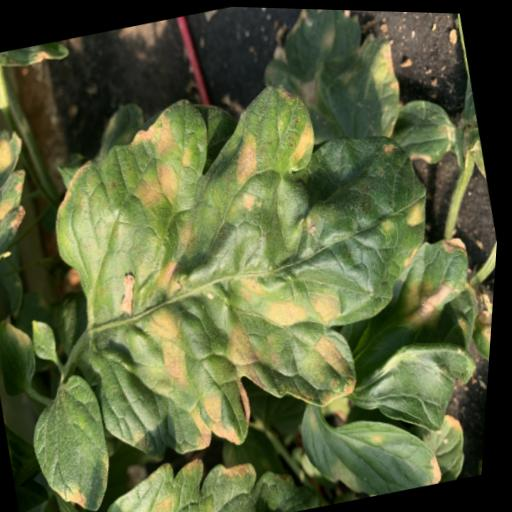Leaf Mold: (21, 44, 481, 480), (320, 225, 501, 446), (244, 6, 413, 159), (50, 422, 332, 512), (297, 375, 455, 509), (20, 366, 131, 512), (0, 118, 67, 338)
